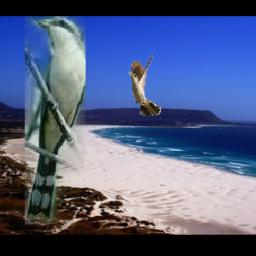Cuckoo: (26, 16, 87, 224), (128, 55, 161, 117)
